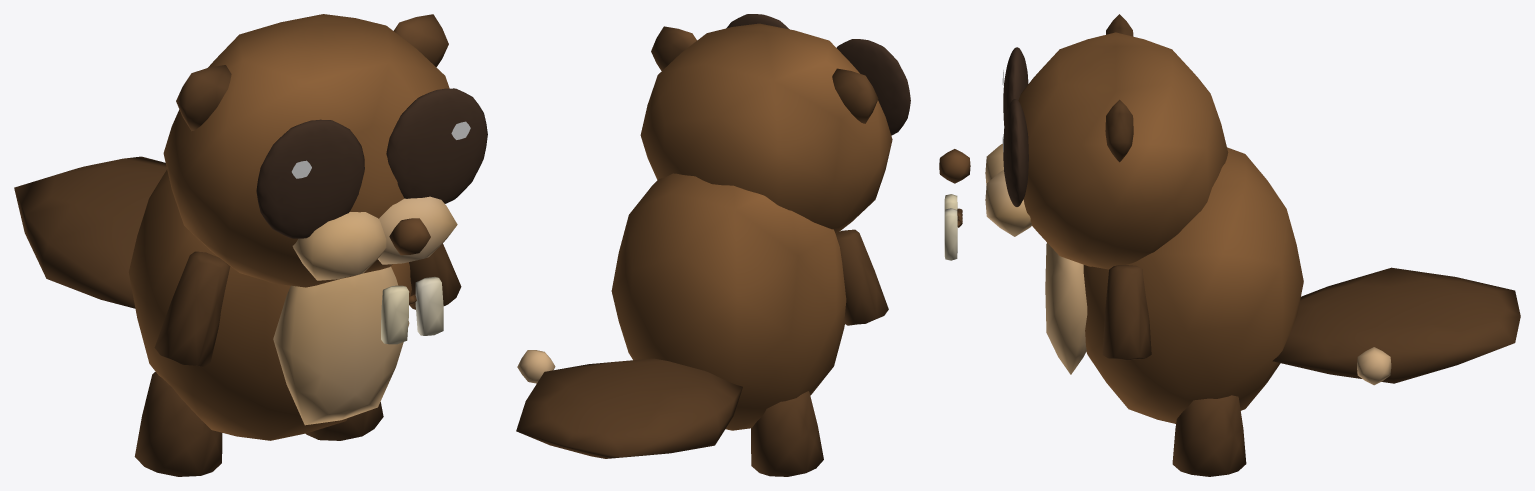
The model's file is critter_timberchomp.glb.
The picture shows the model from 3 angles, left to right: view 1: azimuth 30°, elevation 25°; view 2: azimuth 150°, elevation 25°; view 3: azimuth 270°, elevation 25°; orthographic projection. The views are drawn at different scales.
Parts seen in each view (by area): view 1: critter_timberchomp_part_1, critter_timberchomp_part_0, critter_timberchomp_part_6, critter_timberchomp_part_4, critter_timberchomp_part_2, critter_timberchomp_part_3, critter_timberchomp_part_5; view 2: critter_timberchomp_part_1, critter_timberchomp_part_0, critter_timberchomp_part_6, critter_timberchomp_part_4, critter_timberchomp_part_2; view 3: critter_timberchomp_part_1, critter_timberchomp_part_0, critter_timberchomp_part_6, critter_timberchomp_part_5, critter_timberchomp_part_3.
Boxes of the visible parts, bbox=[...] form: critter_timberchomp_part_1: bbox=[163, 14, 487, 344]; critter_timberchomp_part_0: bbox=[128, 169, 411, 440]; critter_timberchomp_part_6: bbox=[14, 156, 166, 308]; critter_timberchomp_part_4: bbox=[134, 372, 222, 476]; critter_timberchomp_part_2: bbox=[154, 251, 230, 366]; critter_timberchomp_part_3: bbox=[409, 243, 461, 309]; critter_timberchomp_part_5: bbox=[306, 402, 383, 440]; critter_timberchomp_part_1: bbox=[640, 14, 910, 233]; critter_timberchomp_part_0: bbox=[611, 173, 846, 430]; critter_timberchomp_part_6: bbox=[516, 350, 742, 458]; critter_timberchomp_part_4: bbox=[751, 391, 823, 476]; critter_timberchomp_part_2: bbox=[836, 229, 888, 325]; critter_timberchomp_part_1: bbox=[939, 14, 1228, 269]; critter_timberchomp_part_0: bbox=[1045, 147, 1303, 423]; critter_timberchomp_part_6: bbox=[1272, 267, 1520, 385]; critter_timberchomp_part_5: bbox=[1172, 395, 1246, 476]; critter_timberchomp_part_3: bbox=[1102, 265, 1151, 360].
Bounding box in the file's own units: 0.8242 × 1.23 × 1.67.
